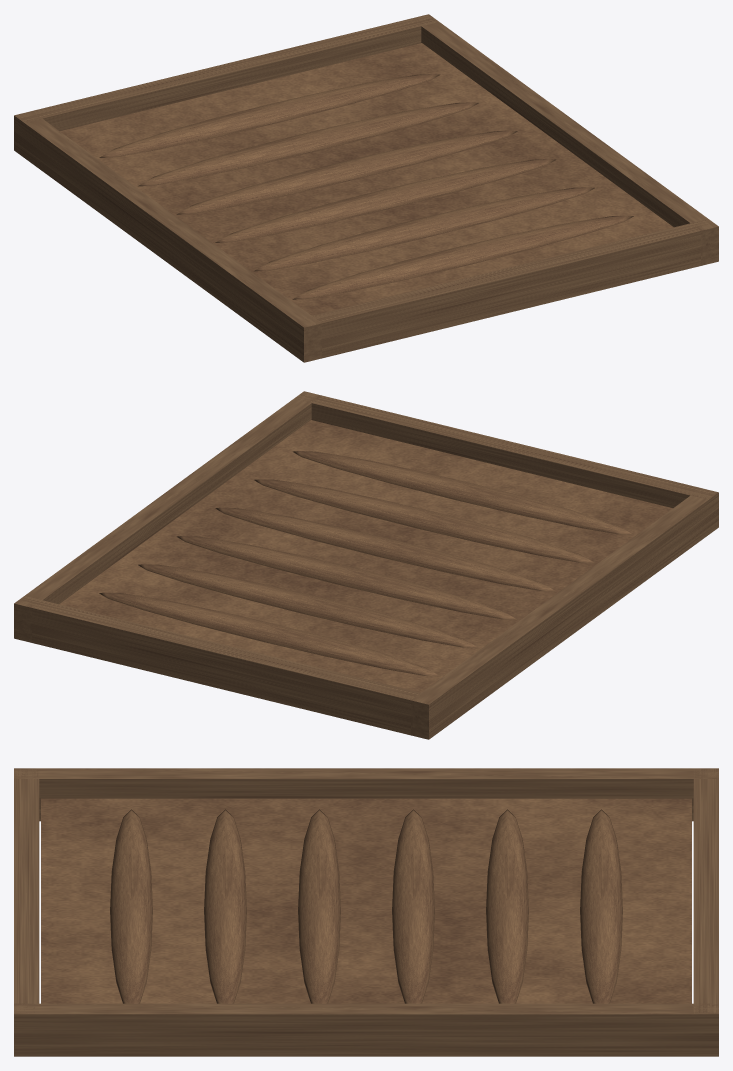
The model's file is bed.glb.
3 views of the same model, one above another, from view 1: azimuth 30°, elevation 25°; view 2: azimuth 150°, elevation 25°; view 3: azimuth 270°, elevation 25° (orthographic). The views are drawn at different scales.
Visible parts, largest first — view 1: bed_moist_tropical_loam, bed_warm_weathered_hardwood; view 2: bed_moist_tropical_loam, bed_warm_weathered_hardwood; view 3: bed_moist_tropical_loam, bed_warm_weathered_hardwood.
Boxes of the visible parts, <box> form: bed_moist_tropical_loam: <box>60,43,673,315</box>; bed_warm_weathered_hardwood: <box>14,14,718,362</box>; bed_moist_tropical_loam: <box>59,420,672,692</box>; bed_warm_weathered_hardwood: <box>14,391,718,739</box>; bed_moist_tropical_loam: <box>41,798,691,1003</box>; bed_warm_weathered_hardwood: <box>14,768,718,1056</box>.
Size of the model in its own units: 1.61 by 0.13 by 1.95.
2 materials, 2 textured.
